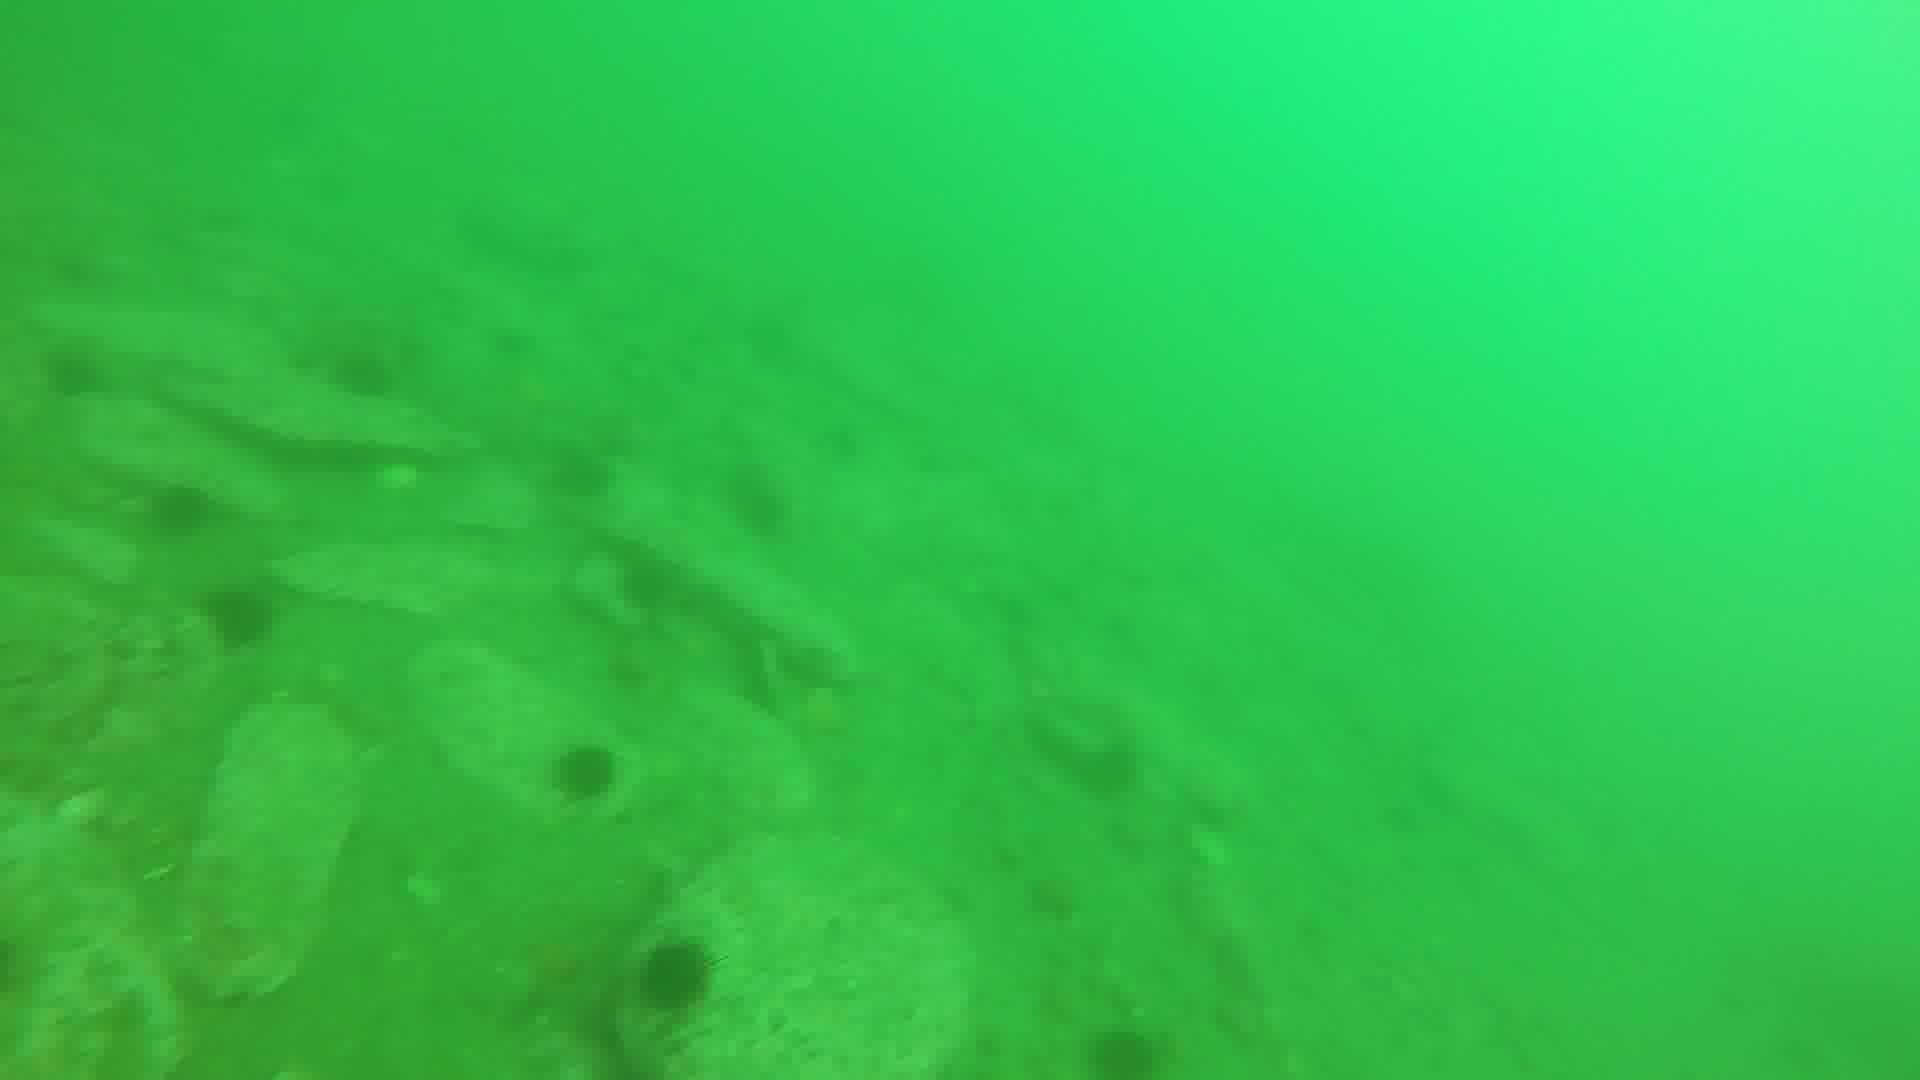echinus: (646, 940, 719, 1009), (207, 585, 280, 651), (1095, 1025, 1170, 1080), (556, 742, 616, 804), (149, 484, 210, 539), (331, 353, 396, 404), (54, 353, 104, 404)
